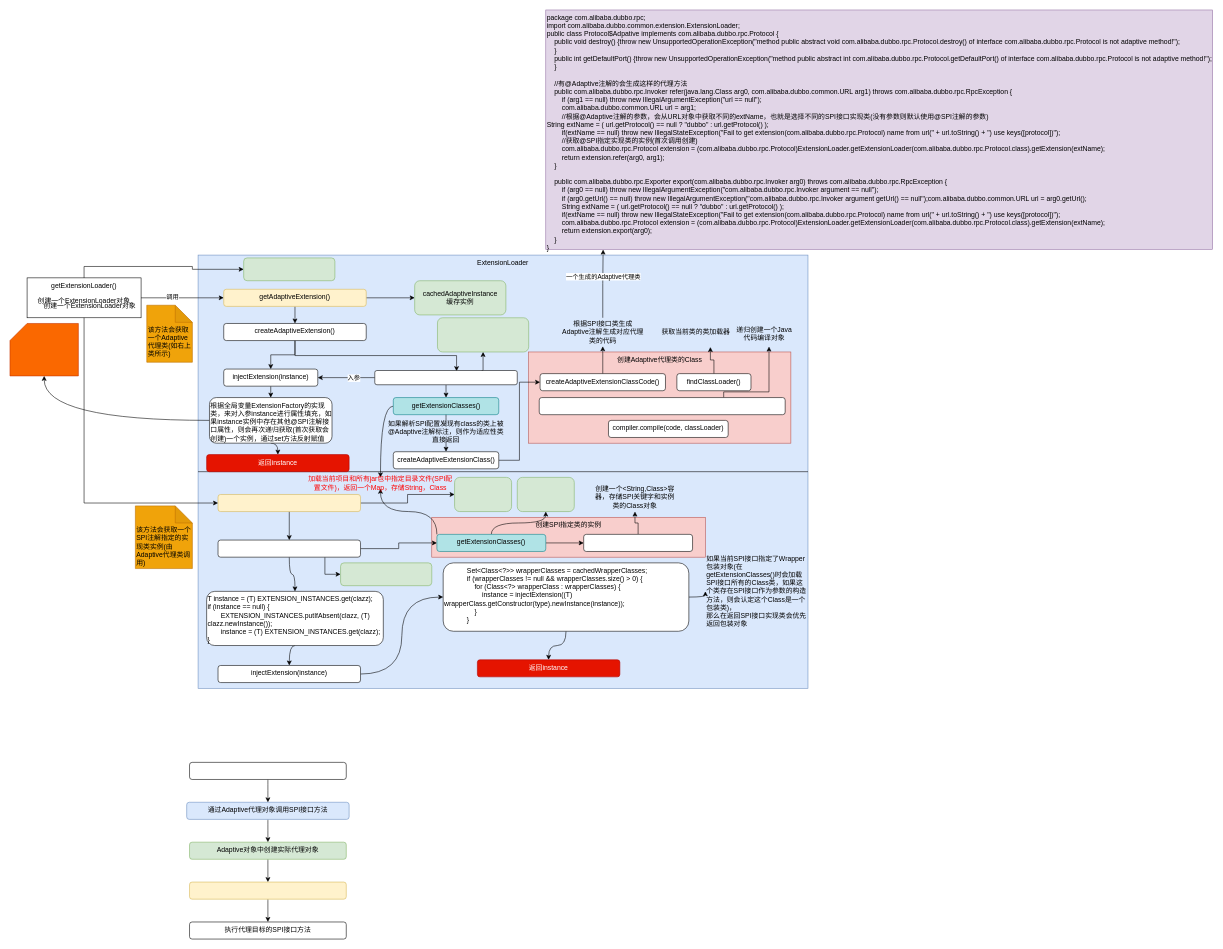
Some shapes in this 1223 by 949 pixel diagram are drawn without their labels. The shapes that lost their labels are listed below. From the top down, each one's box as (x1, y1, x2, y2) in pixels, then its label:
(243, 257, 335, 281): EXTENSION_LOADERS 缓存每个SPI接口对应的ExtensionLoader对象
(9, 323, 78, 376): objectFactory属性会指定一个属性注入Factory实现类，默认使用的是SpiExtensionFactory
(437, 317, 529, 352): cachedAdaptiveClass 缓存Class
(374, 370, 517, 385): getAdaptiveExtensionClass()
(539, 397, 785, 415): ExtensionLoader.getExtensionLoader(Compiler.class).getAdaptiveExtension()
(217, 494, 361, 512): getExtension(extName)
(454, 477, 512, 512): cachedInstances 缓存实例
(517, 477, 574, 512): cachedClasses 缓存SPI对应Class
(217, 540, 361, 557): createExtension(name)
(583, 534, 693, 551): loadExtensionClasses()
(340, 562, 432, 586): EXTENSION_INSTANCES 缓存实例
(189, 762, 346, 779): 通过ExtensionLoader对象创建Adaptive代理对象
(189, 882, 346, 899): 执行代理目标对象的包装类方法(如果配置的有)
